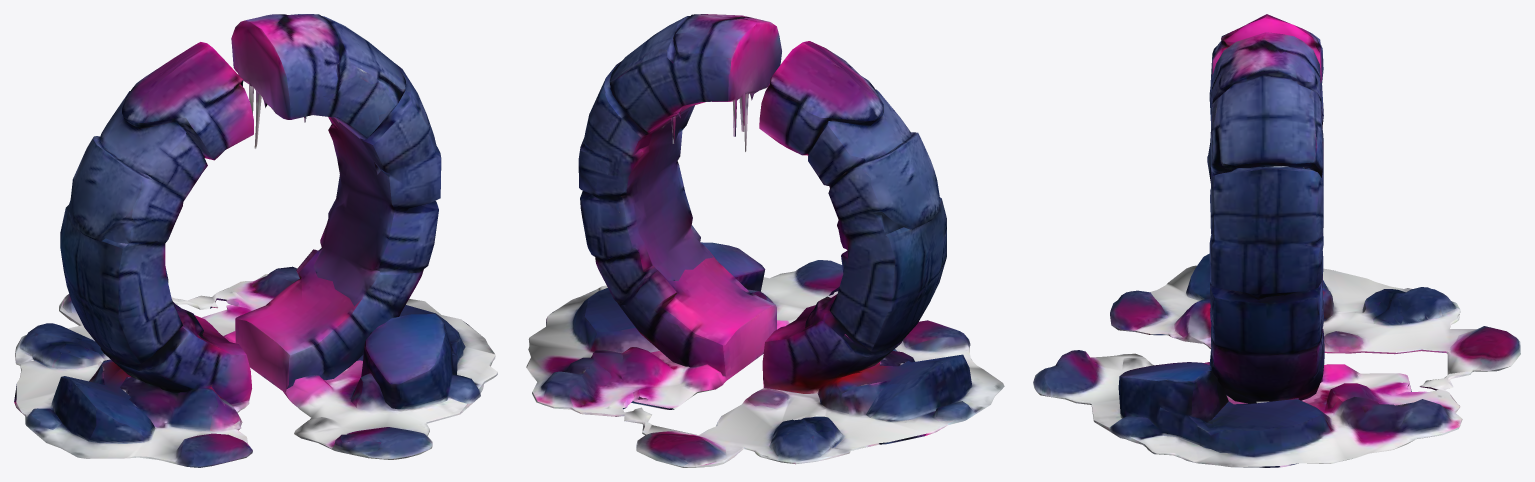
File: yggdrasil-drowned-ring-nw.collider.glb
3 views of the same model, side by side, from view 1: azimuth 30°, elevation 25°; view 2: azimuth 150°, elevation 25°; view 3: azimuth 270°, elevation 25° (orthographic). The views are drawn at different scales.
Parts seen in each view (by area): view 1: temp_mesh.ply; view 2: temp_mesh.ply; view 3: temp_mesh.ply.
Part boxes in pixels (x1=…): temp_mesh.ply: x1=14, y1=14, x2=497, y2=467; temp_mesh.ply: x1=526, y1=14, x2=1004, y2=467; temp_mesh.ply: x1=1033, y1=14, x2=1520, y2=467.
Bounding box in the file's own units: 1.92 × 1.47 × 1.92.
Materials: 1 (1 with a texture image).
